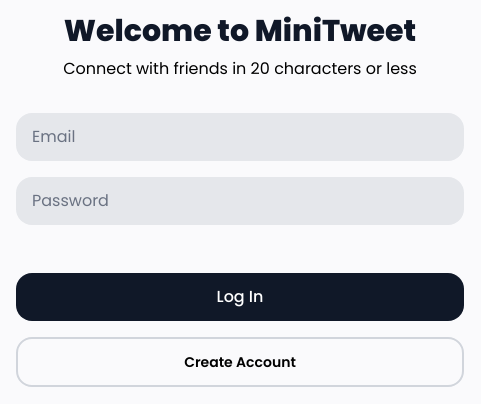
Test: LoginPage › disables button while loading
Type "test@example.com" into the field with placeholder "Email" at [240, 137], box [16,113,464,161]
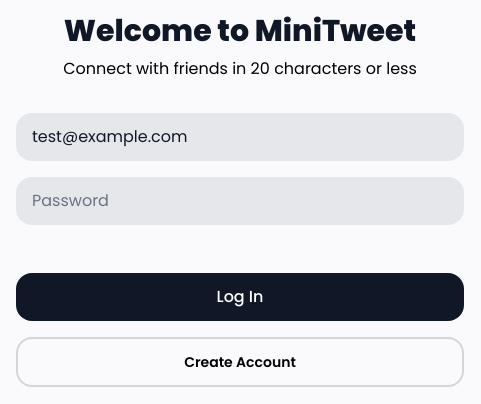
Type "password123" into the password field with placeholder "Password" at [240, 201], box [16,177,464,225]
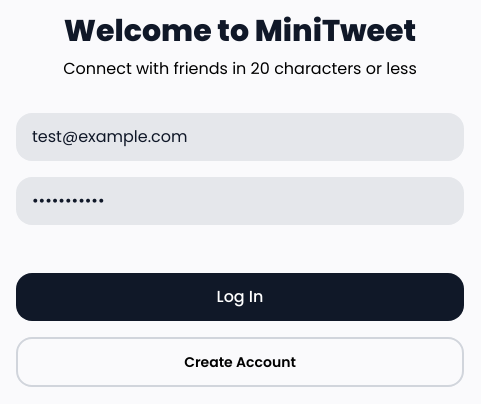
Click the button "Log In" at [240, 297], box [16,273,464,321]
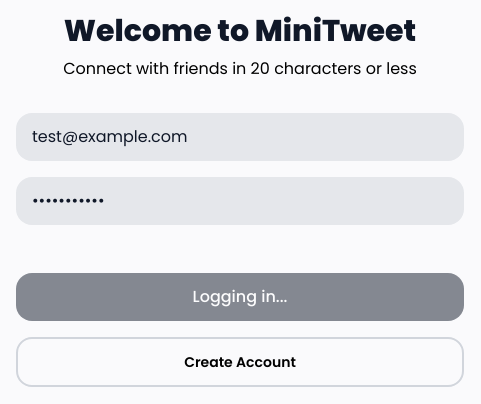
Expected: the button named "Log In" is disabled, [16,273,464,321]
